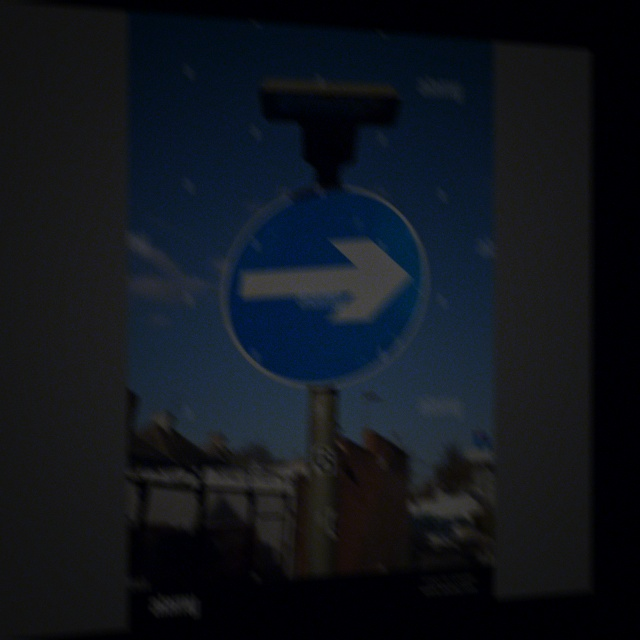Compulsory_Turn_Right: (218, 181, 425, 389)
